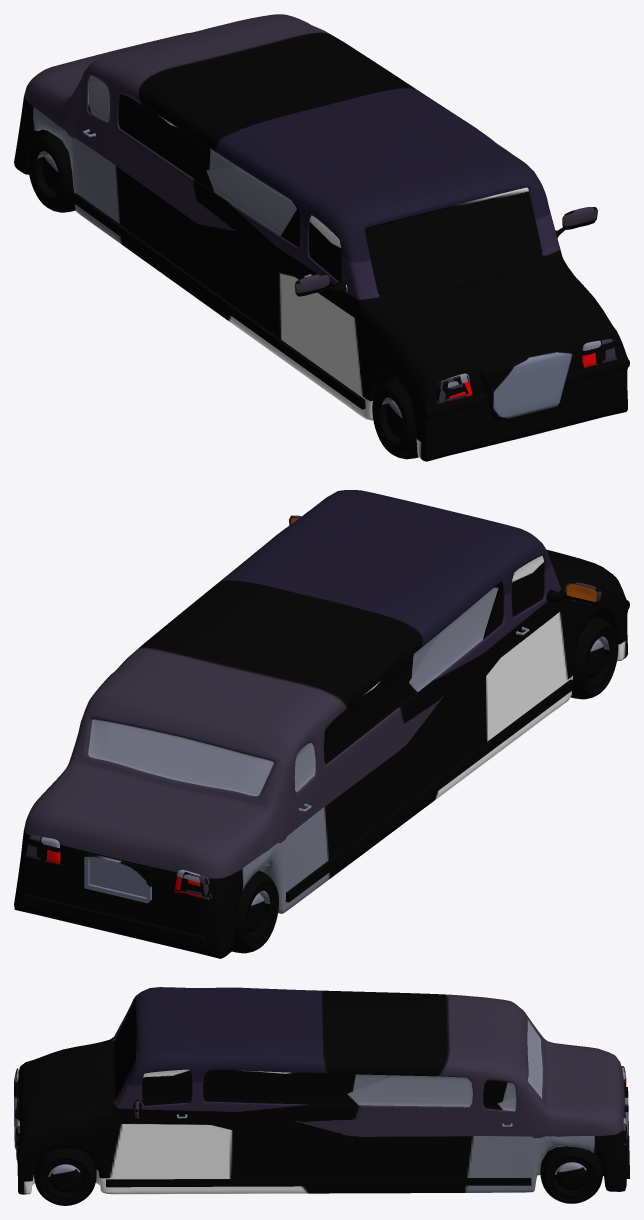
The model's file is limousine@idle.fbx.
3 renders of one model, top to bottom at view 1: azimuth 30°, elevation 25°; view 2: azimuth 150°, elevation 25°; view 3: azimuth 270°, elevation 25°, orthographic. The views are drawn at different scales.
Parts seen in each view (by area): view 1: polySurface394, polySurface404, polySurface406; view 2: polySurface394, polySurface406, polySurface404; view 3: polySurface394, polySurface398, polySurface400.
Part boxes in pixels (x1,y1,x2,y2): polySurface394: (14, 14, 629, 461); polySurface404: (28, 131, 75, 212); polySurface406: (372, 377, 418, 459); polySurface394: (14, 490, 629, 958); polySurface406: (570, 616, 618, 699); polySurface404: (232, 870, 278, 953); polySurface394: (14, 987, 629, 1194); polySurface398: (540, 1146, 602, 1203); polySurface400: (34, 1148, 96, 1205).
Bounding box in the file's own units: 9.97 × 6.38 × 23.36.
